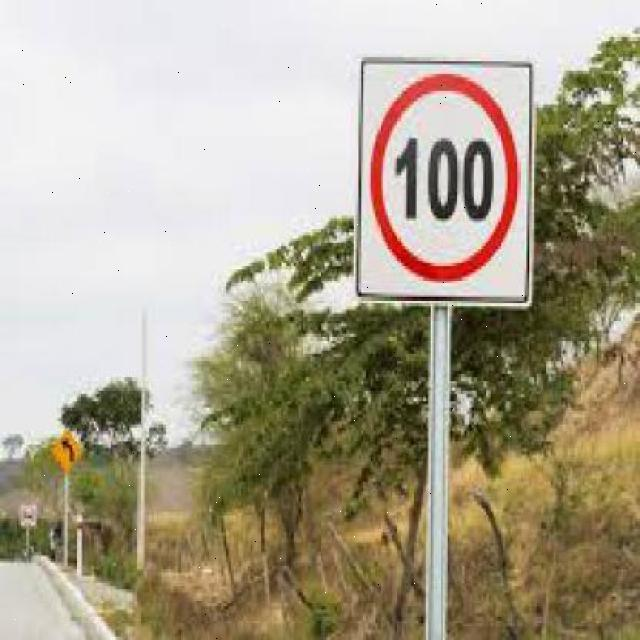speed limit 100: (370, 73, 519, 282)
